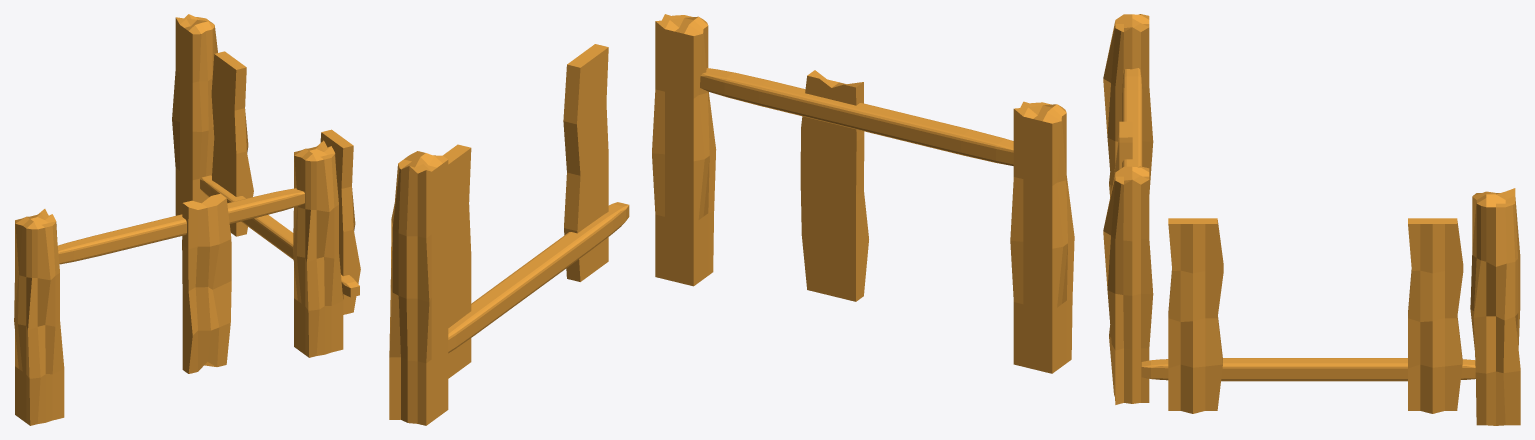
File: FenchLow.fbx
3 renders of one model, left to right at view 1: azimuth 30°, elevation 25°; view 2: azimuth 150°, elevation 25°; view 3: azimuth 270°, elevation 25°, orthographic. The views are drawn at different scales.
Visible parts, largest first — view 1: Cube, Cube.001, Cube.007, Cube.010, Cube.013, Cube.002, Cube.012, Cube.009; view 2: Cube, Cube.010, Cube.001, Cube.007, Cube.012, Cube.002, Cube.009, Cube.013; view 3: Cube.010, Cube.012, Cube.013, Cube.001, Cube.009, Cube, Cube.002, Cube.007.
Boxes of the visible parts, left/top/right/bottom form: Cube: left=14, top=209, right=64, bottom=425; Cube.001: left=293, top=140, right=343, bottom=357; Cube.007: left=182, top=193, right=231, bottom=373; Cube.010: left=172, top=14, right=217, bottom=215; Cube.013: left=211, top=51, right=253, bottom=236; Cube.002: left=58, top=188, right=304, bottom=264; Cube.012: left=320, top=129, right=360, bottom=314; Cube.009: left=200, top=175, right=359, bottom=297; Cube: left=1010, top=101, right=1074, bottom=373; Cube.010: left=389, top=151, right=448, bottom=425; Cube.001: left=652, top=14, right=716, bottom=286; Cube.007: left=800, top=70, right=868, bottom=301; Cube.012: left=563, top=44, right=608, bottom=281; Cube.002: left=700, top=68, right=1013, bottom=165; Cube.009: left=448, top=202, right=629, bottom=353; Cube.013: left=443, top=144, right=471, bottom=378; Cube.010: left=1470, top=188, right=1520, bottom=425; Cube.012: left=1168, top=218, right=1223, bottom=413; Cube.013: left=1408, top=218, right=1463, bottom=413; Cube.001: left=1103, top=166, right=1153, bottom=404; Cube.009: left=1141, top=358, right=1475, bottom=381; Cube: left=1103, top=14, right=1153, bottom=197; Cube.002: left=1122, top=68, right=1142, bottom=167; Cube.007: left=1113, top=121, right=1132, bottom=179.
Bounding box in the file's own units: 565 × 296 × 501.
